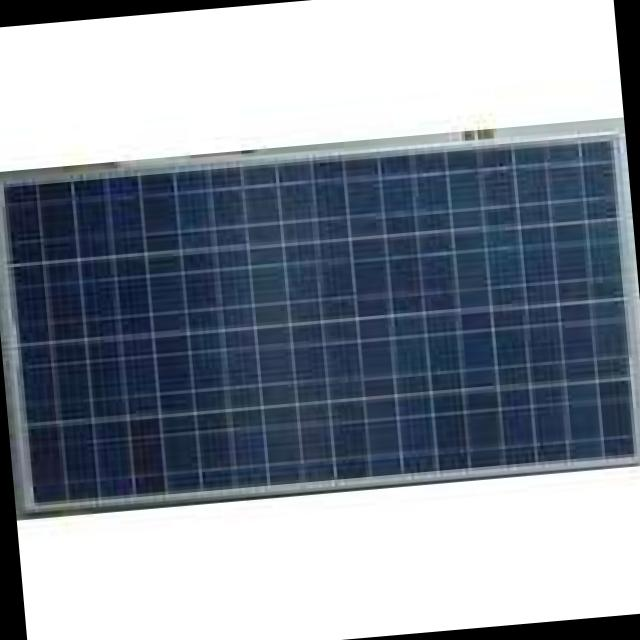no faulty: (2, 132, 639, 514)
